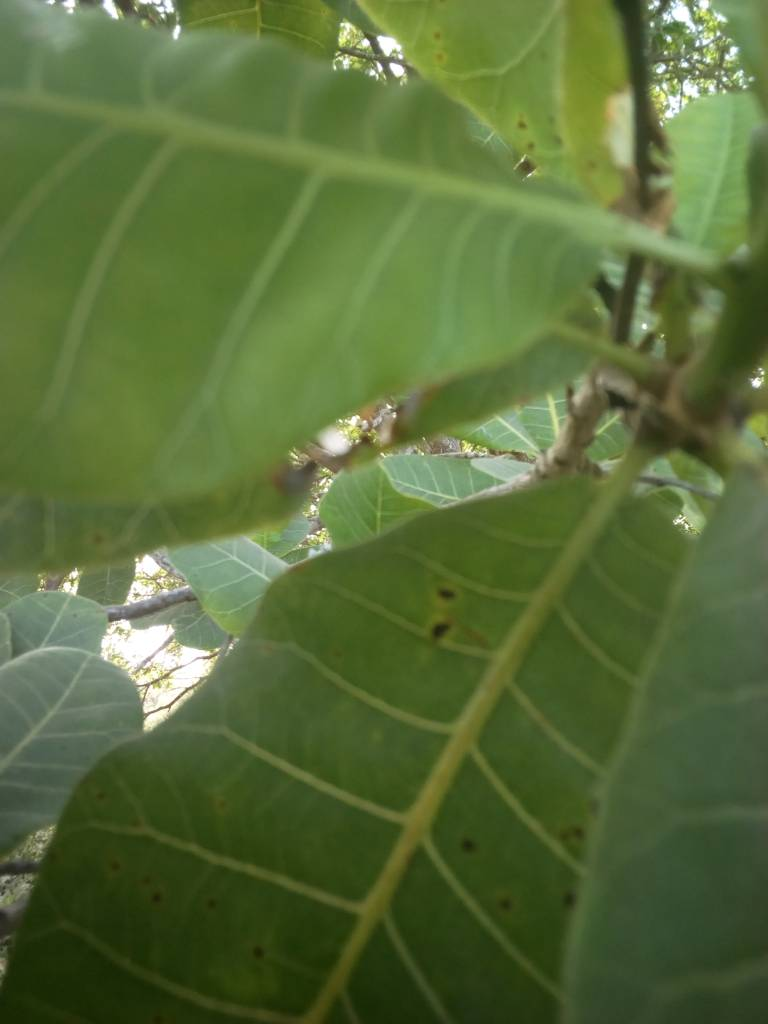Bactériose: (75, 502, 666, 1024)
